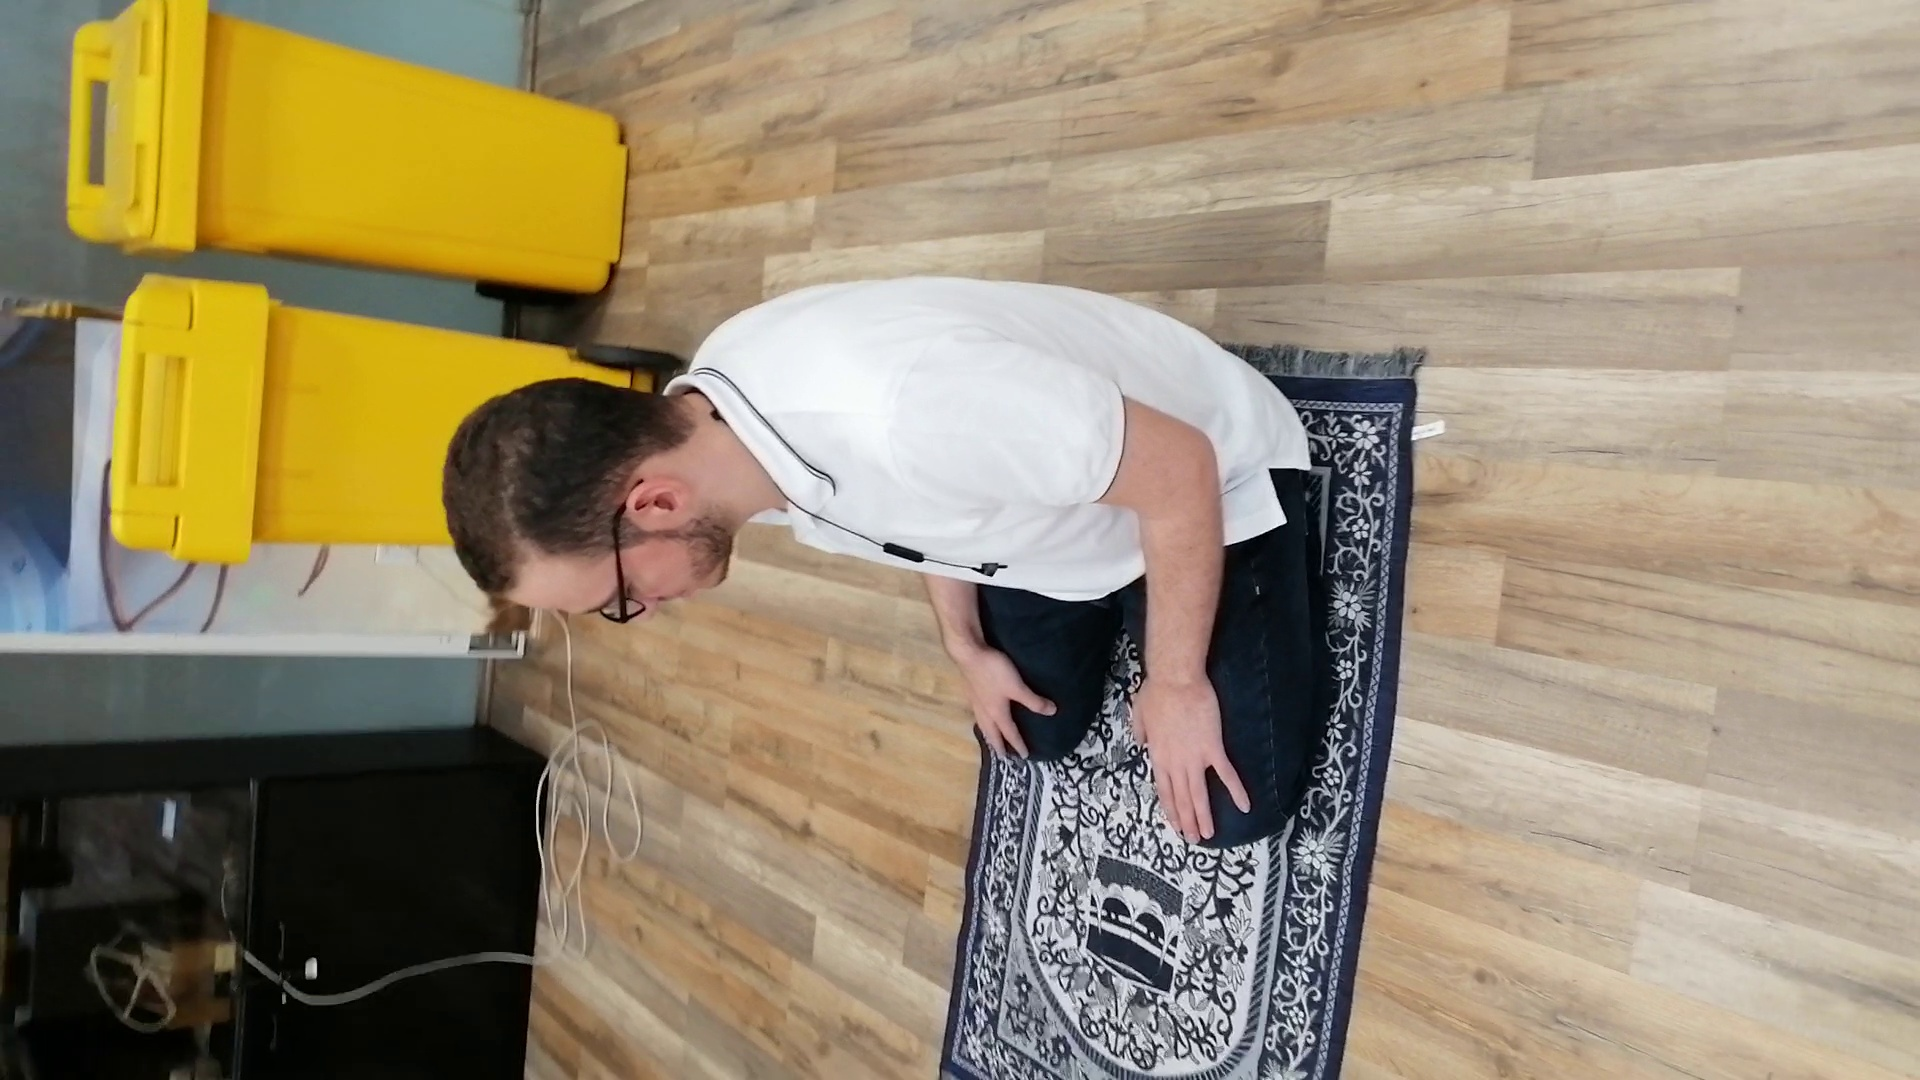sitting: (426, 261, 1346, 853)
